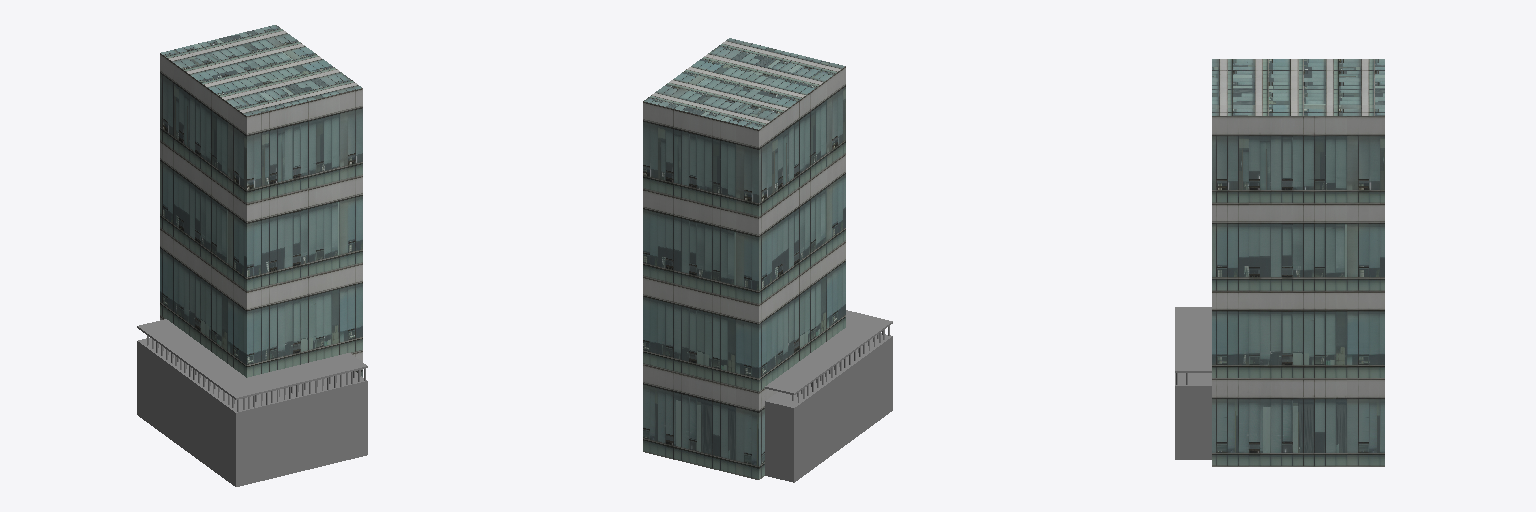
3 views of the same model, side by side, from view 1: azimuth 30°, elevation 25°; view 2: azimuth 150°, elevation 25°; view 3: azimuth 270°, elevation 25° (orthographic).
Parts seen in each view (by area): view 1: Box054, Box053, Box055; view 2: Box054, Box053, Box055; view 3: Box054, Box053, Box055.
Part boxes in pixels (x1,y1,x2,y2): Box054: (160, 25, 362, 377); Box053: (137, 338, 367, 486); Box055: (137, 319, 367, 399); Box054: (643, 38, 845, 479); Box053: (765, 333, 892, 482); Box055: (765, 310, 892, 394); Box054: (1212, 59, 1384, 466); Box053: (1175, 373, 1211, 459); Box055: (1175, 307, 1211, 372).
Size of the model in its own units: 3.77 by 8.72 by 4.73.
2 materials, 1 textured.